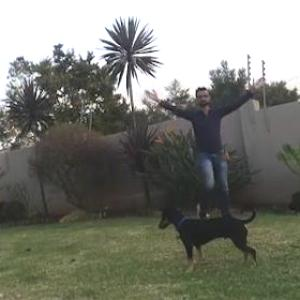takeoff: (135, 80, 252, 216)
